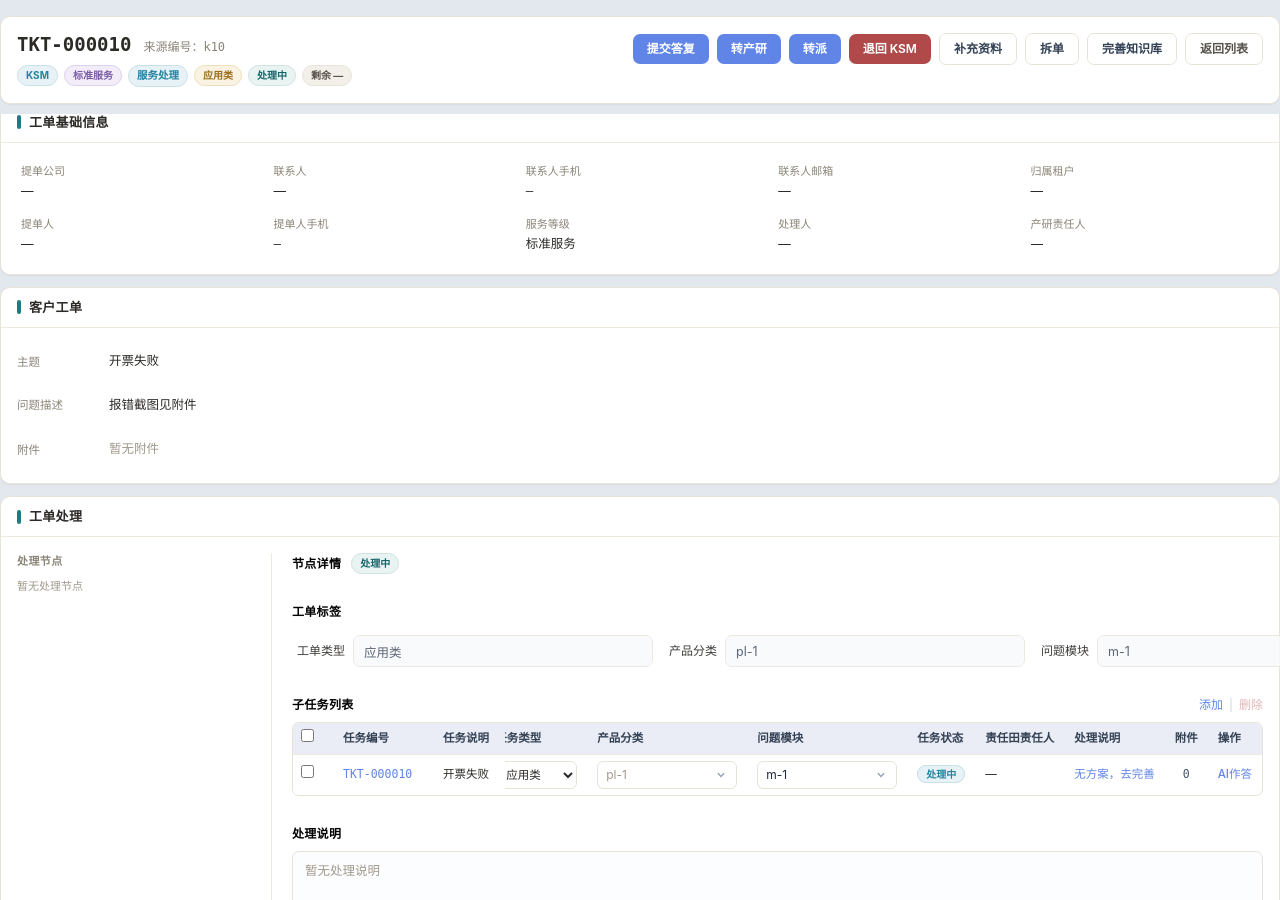
Test: TicketDetailPage 出站回写失败横幅 › 处理说明按钮区包含【转产研】与【完善知识库】按钮，处理说明为空时点击【转产研】弹出居中灯箱提示
Expected: the button "完善知识库" is shown, left=1087, top=33, right=1177, bottom=65
// 处理说明为空时点击【转产研】
Click the button "转产研": (749, 49) left=717, top=34, right=781, bottom=64
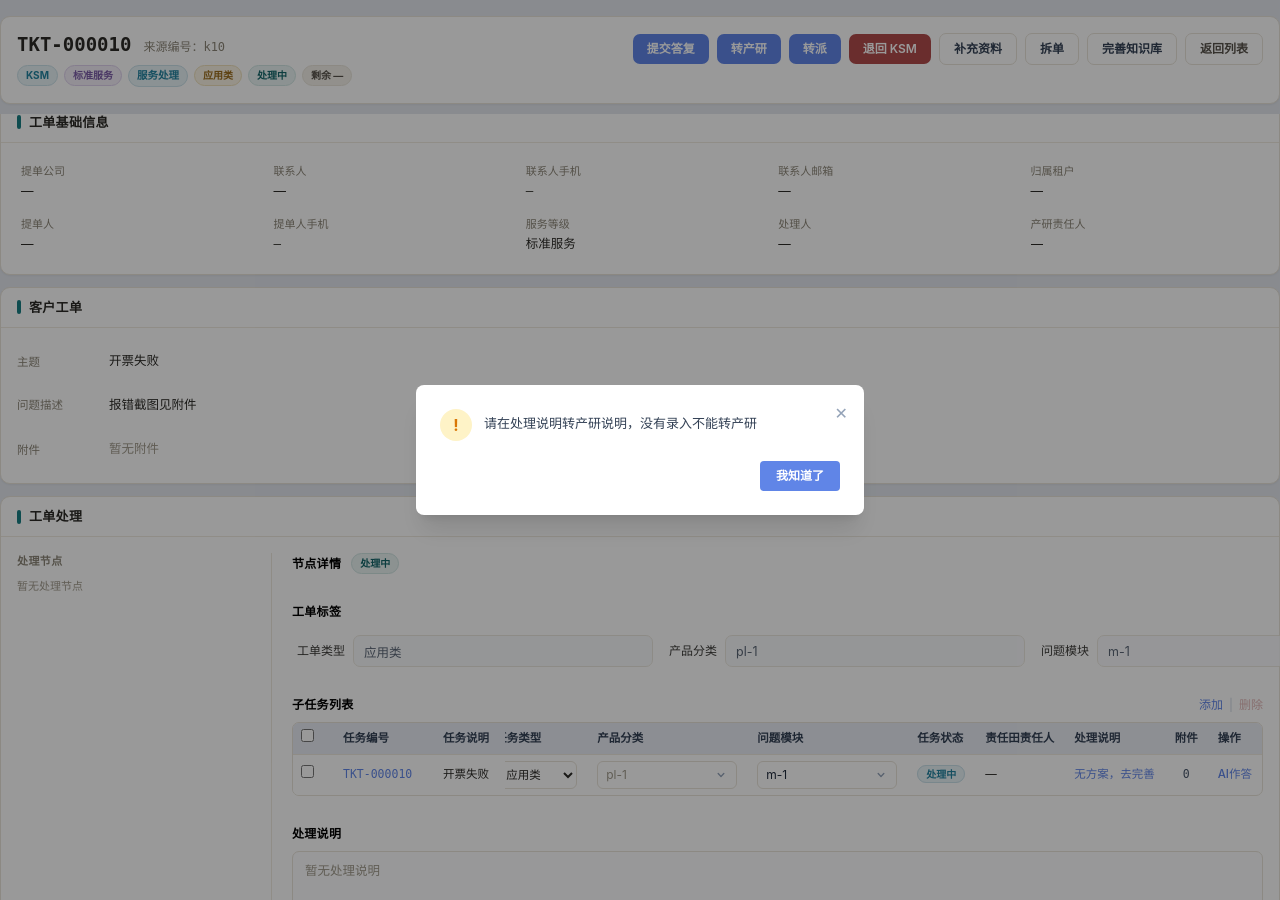
Result: the text "请在处理说明转产研说明，没有录入不能转产研" is shown at left=484, top=415, right=757, bottom=431
// 点击关闭按钮可手动即时关闭
Click the button named "关闭": (841, 413) left=831, top=397, right=852, bottom=429
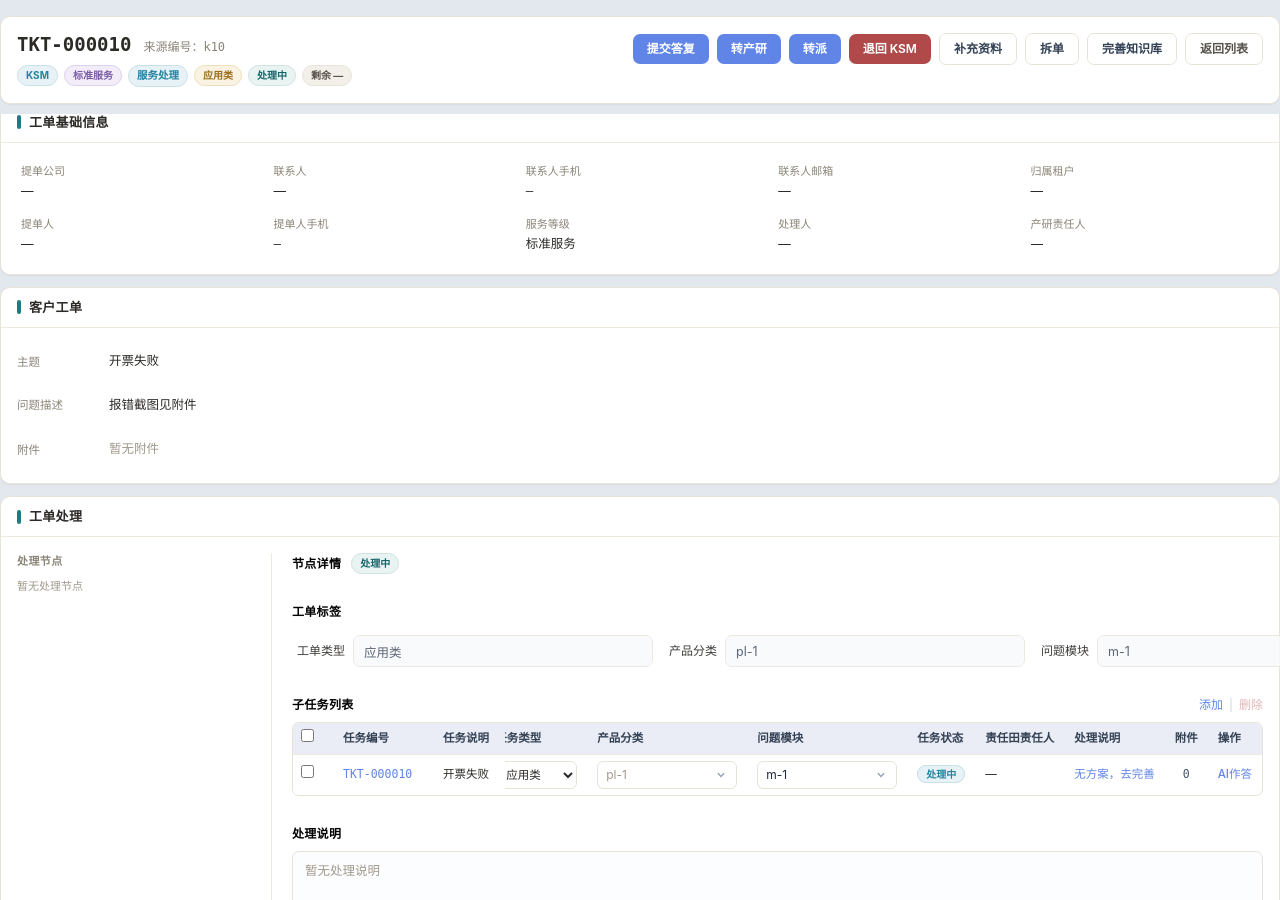
Result: the text "请在处理说明转产研说明，没有录入不能转产研" is gone
// 点击【完善知识库】滑出 500px 抽屉
Click the button "完善知识库": (1132, 49) left=1087, top=33, right=1177, bottom=65
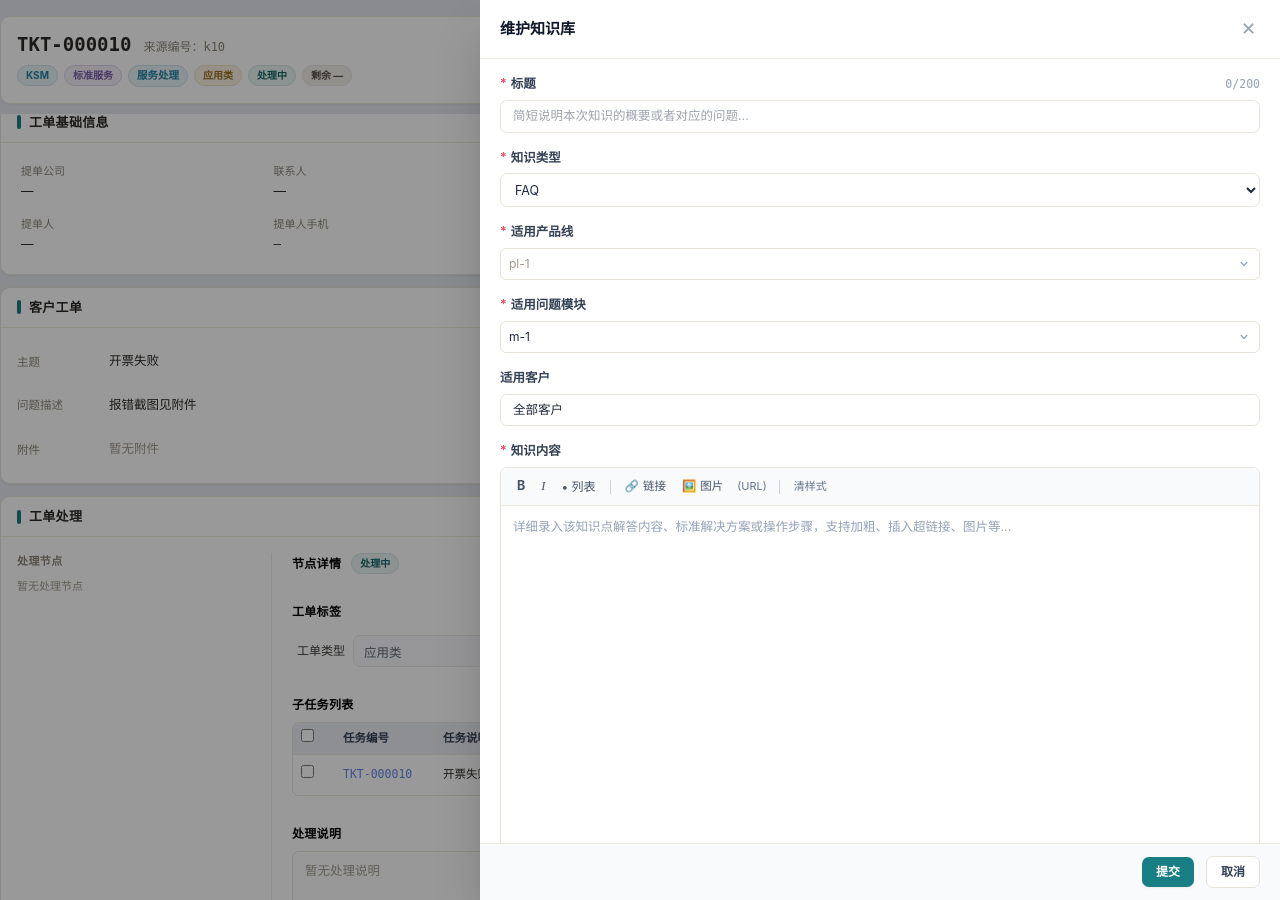
Result: the heading "维护知识库" is shown at left=500, top=18, right=575, bottom=40
Result: the field with placeholder "简短说明本次知识的概要或者对应的问题..." is shown at left=500, top=100, right=1260, bottom=133
